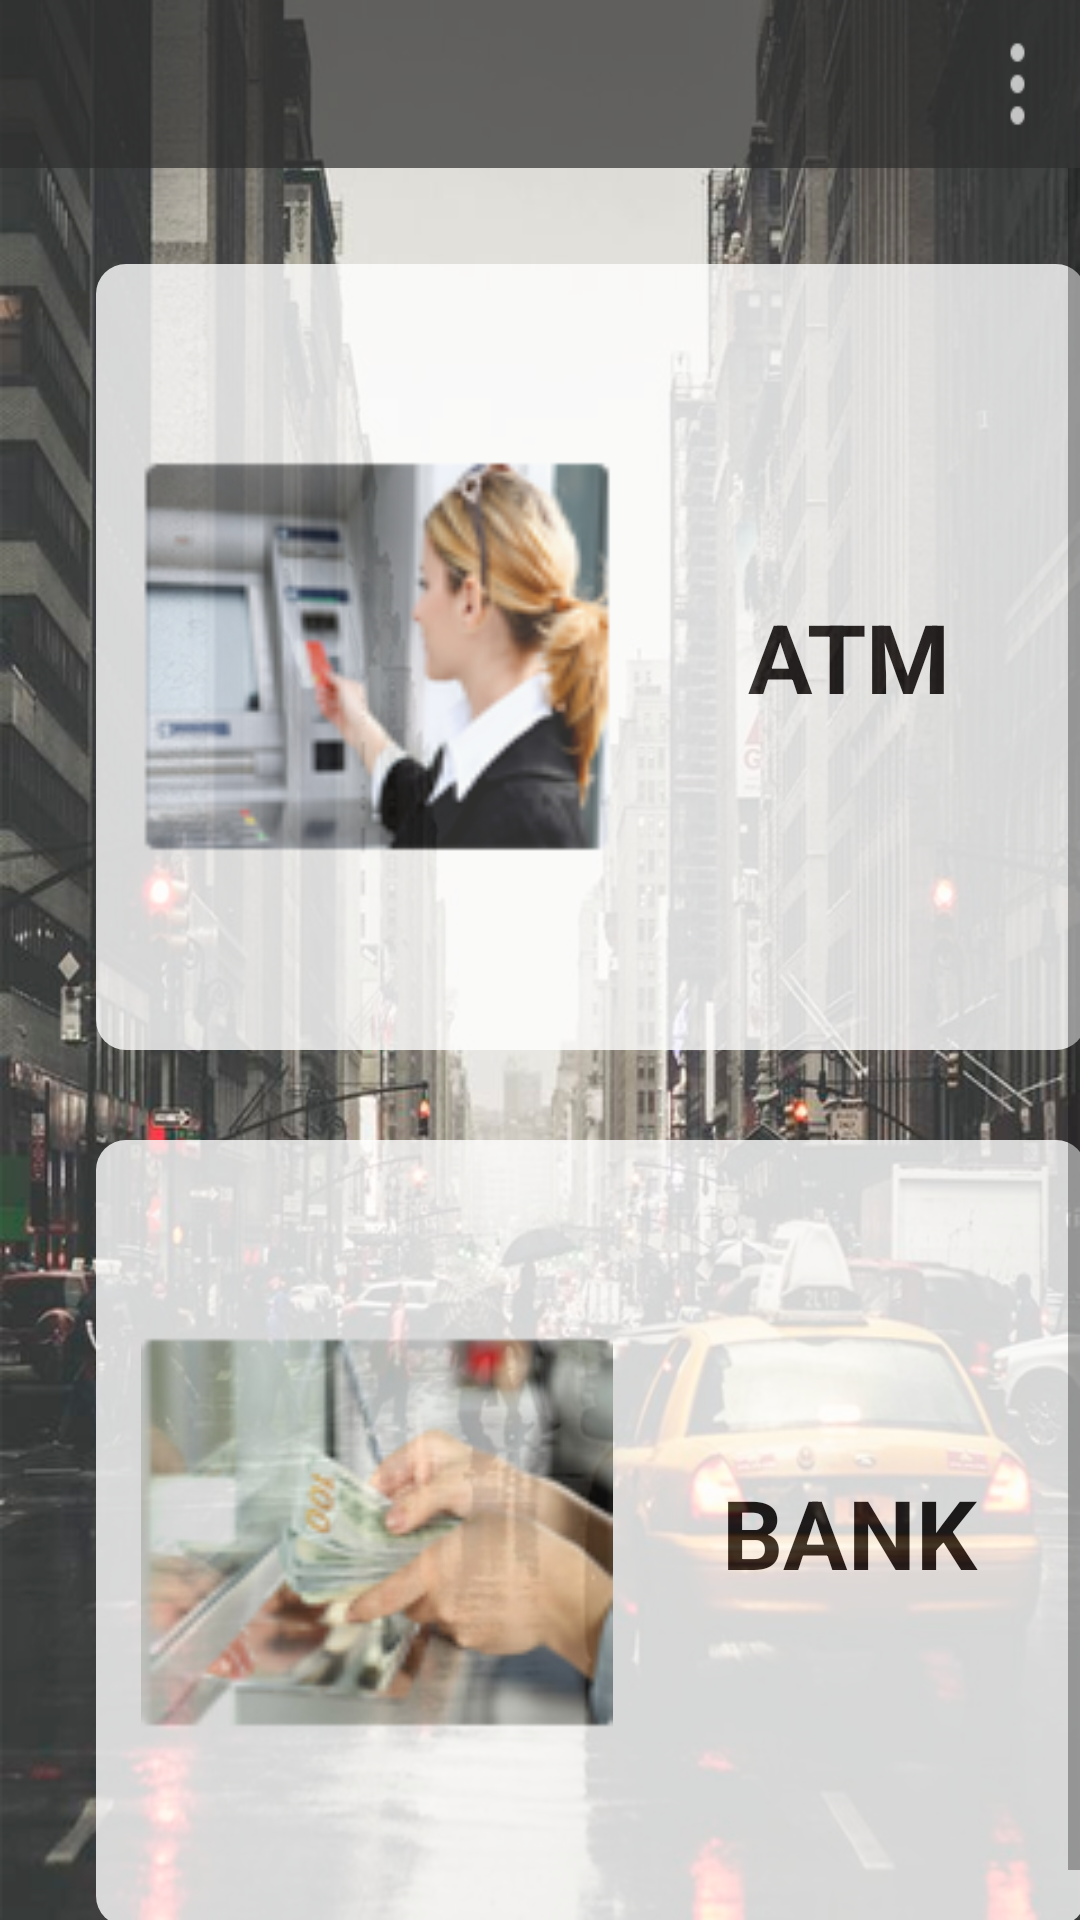

Icon bounding boxes for this 1080x1920 phone screenshot, format {"left": x1, "top": y1, "right": x2, "bottom": y2}:
menuicon: {"left": 1010, "top": 43, "right": 1025, "bottom": 125}
